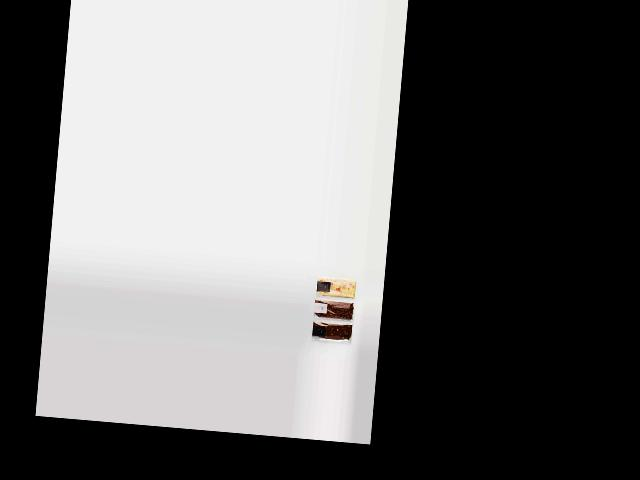chocolate: (311, 322, 354, 344)
